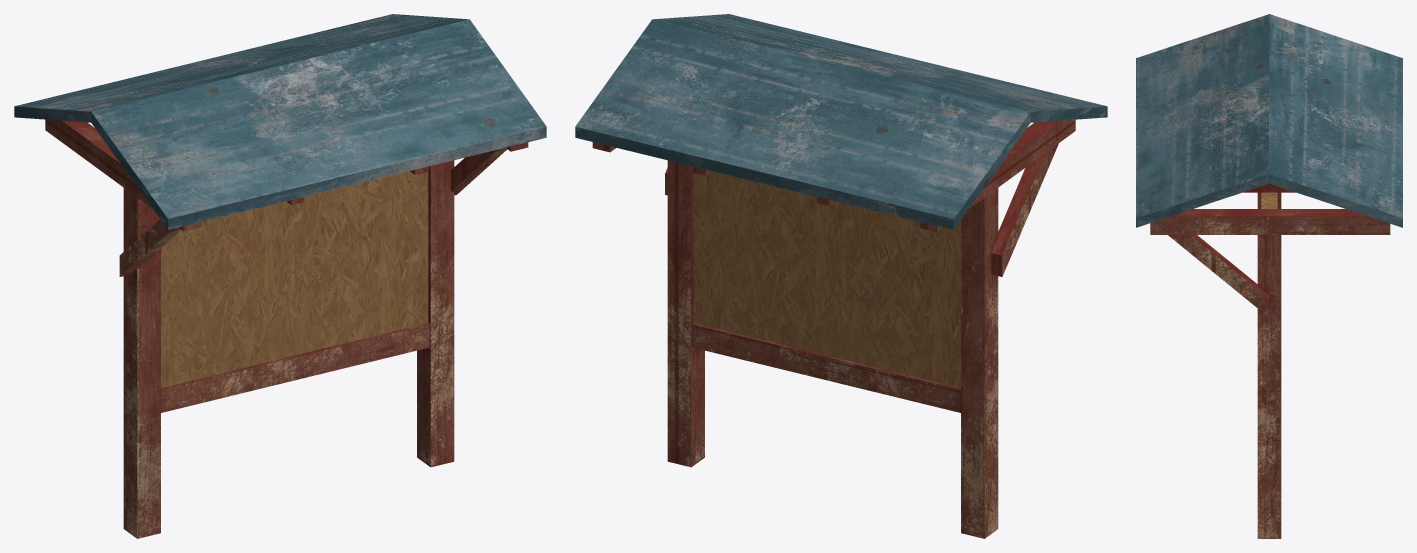
3 views of the same model, side by side, from view 1: azimuth 30°, elevation 25°; view 2: azimuth 150°, elevation 25°; view 3: azimuth 270°, elevation 25° (orthographic). The views are drawn at different scales.
Parts seen in each view (by area): view 1: defaultMaterial (×6); view 2: defaultMaterial (×6); view 3: defaultMaterial (×4).
Boxes of the visible parts, x1=… form: defaultMaterial (×6): x1=14, y1=14, x2=546, y2=538; defaultMaterial (×6): x1=575, y1=14, x2=1107, y2=538; defaultMaterial (×4): x1=1136, y1=14, x2=1402, y2=538.
Bounding box in the file's own units: 18.37 × 20.02 × 12.94.
Materials: 6 (6 with a texture image).
